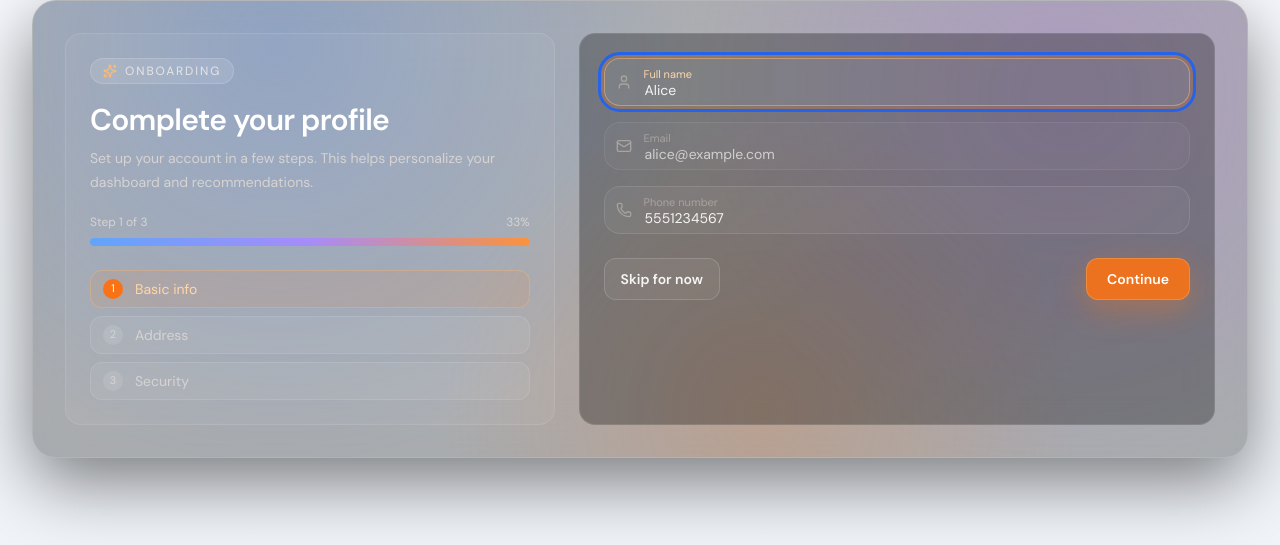
ProfilePage › shows Save Profile button on last step
This screenshot has width=1280, height=545.
Click the button "Continue". click: (1138, 279)
box: [1086,258,1190,300]
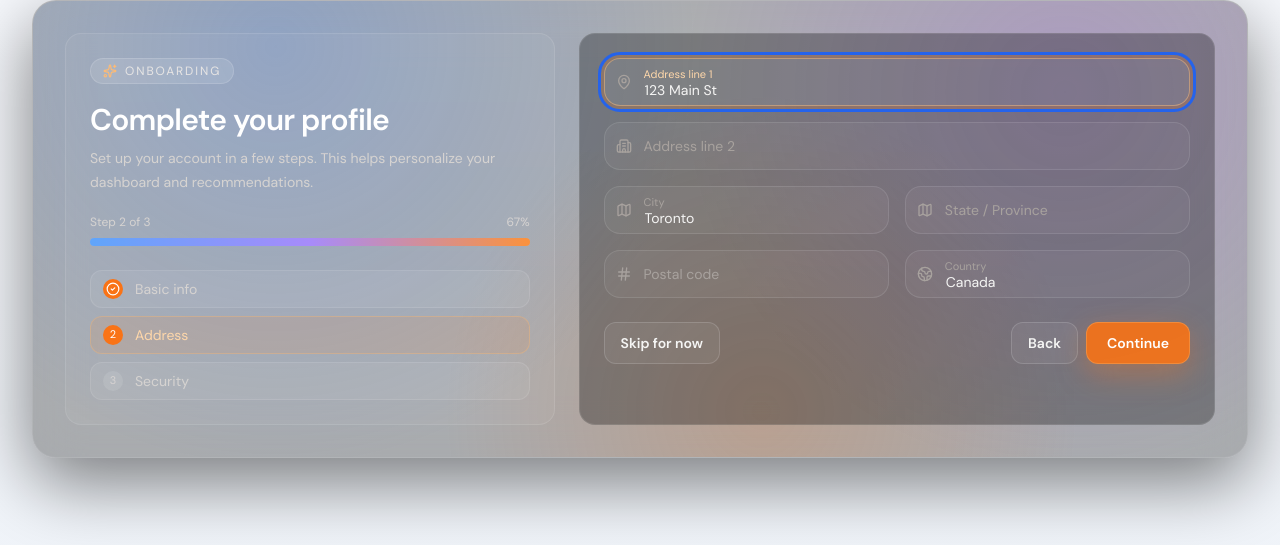
Click the button "Continue". click: (1138, 343)
box: [1086,322,1190,364]
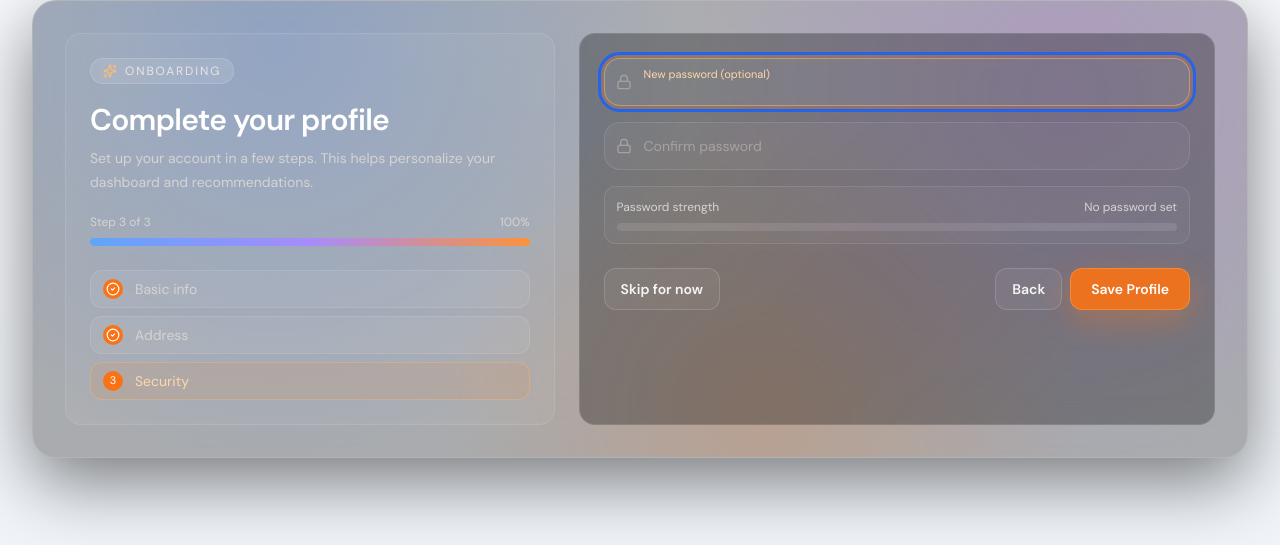
Expected: the button "Save Profile" is shown, [1070,268,1190,310]
